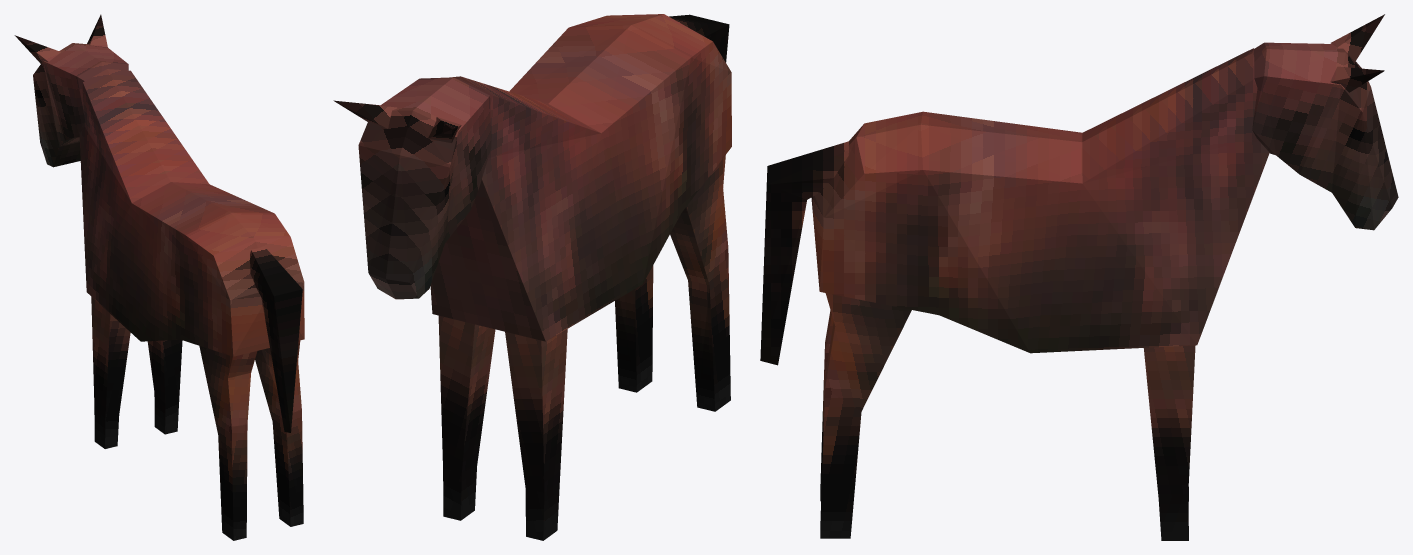
File: Horse_Horse_Bay.glb
3 views of the same model, side by side, from view 1: azimuth 30°, elevation 25°; view 2: azimuth 150°, elevation 25°; view 3: azimuth 270°, elevation 25° (orthographic). The views are drawn at different scales.
Parts seen in each view (by area): view 1: Body, Head, Leg3, Leg4, Leg1, Leg2; view 2: Body, Head, Leg3, Leg1, Leg2, Leg4; view 3: Body, Head, Leg4, Leg2.
Part boxes in pixels (<box>): Body: <box>79,69,304,432</box>; Head: <box>14,14,128,167</box>; Leg3: <box>199,346,257,540</box>; Leg4: <box>255,340,303,526</box>; Leg1: <box>91,297,130,448</box>; Leg2: <box>147,339,182,434</box>; Body: <box>430,14,731,341</box>; Head: <box>333,77,491,299</box>; Leg3: <box>670,155,730,411</box>; Leg1: <box>505,329,567,540</box>; Leg2: <box>438,315,495,520</box>; Leg4: <box>615,265,653,392</box>; Body: <box>760,48,1269,365</box>; Head: <box>1252,14,1398,230</box>; Leg4: <box>820,293,911,538</box>; Leg2: <box>1143,345,1195,540</box>.
Size of the model in its own units: 0.4986 by 1.71 by 2.08.
1 material, 1 textured.
